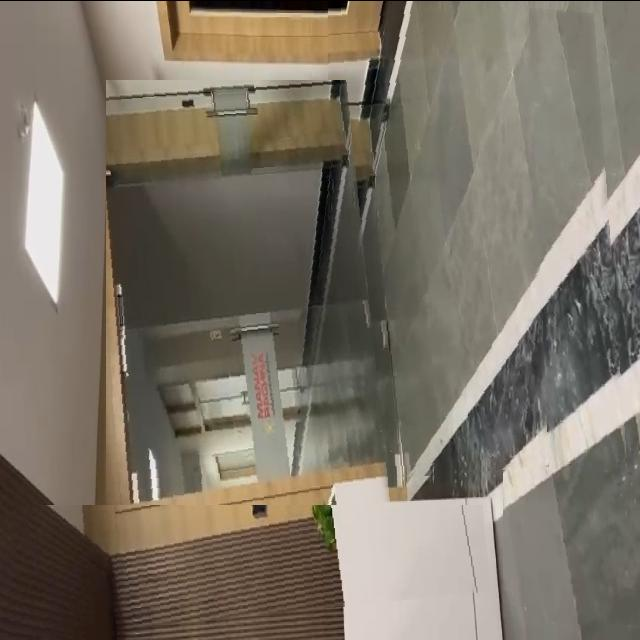door: (106, 79, 394, 565)
floor: (328, 0, 549, 482), (503, 0, 640, 624)
wall: (12, 504, 491, 640)
